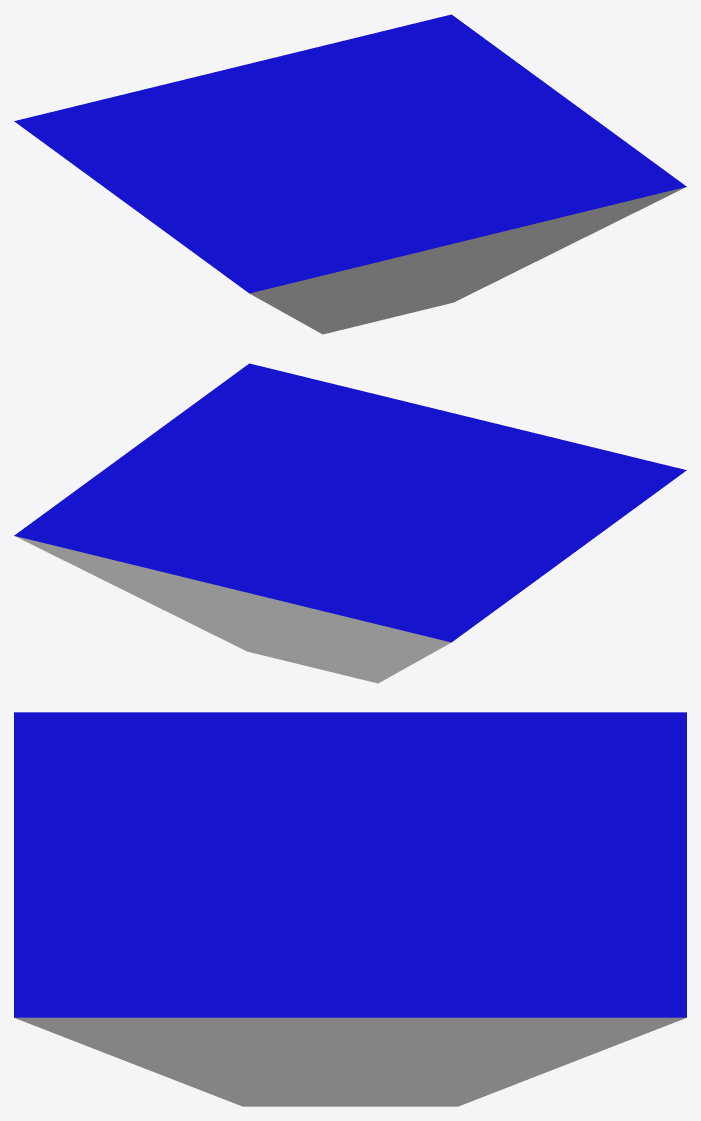
The model's file is End.fbx.
The picture shows the model from 3 angles, top to bottom: view 1: azimuth 30°, elevation 25°; view 2: azimuth 150°, elevation 25°; view 3: azimuth 270°, elevation 25°; orthographic projection. The views are drawn at different scales.
Parts seen in each view (by area): view 1: Cube.001; view 2: Cube.001; view 3: Cube.001.
Part boxes in pixels (left/top/right/bottom): Cube.001: left=14, top=14, right=686, bottom=334; Cube.001: left=14, top=363, right=686, bottom=683; Cube.001: left=14, top=712, right=686, bottom=1106.
Size of the model in its own units: 669 by 200 by 623.
